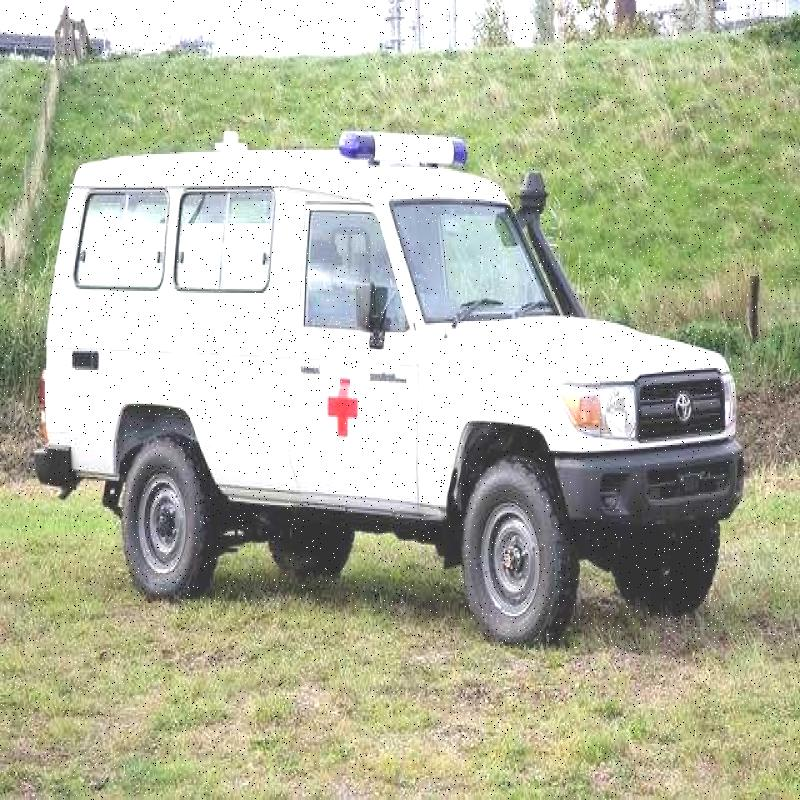AmbulanceSiren: (334, 113, 484, 164)
